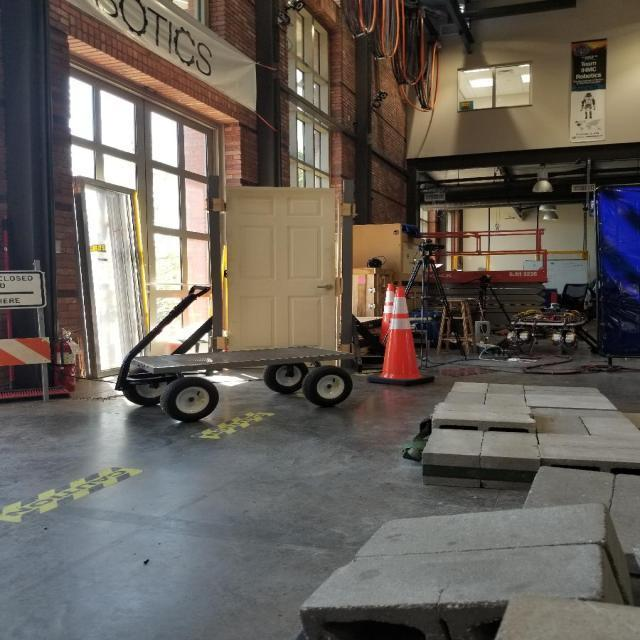door: (224, 184, 338, 372), (314, 281, 333, 292)
